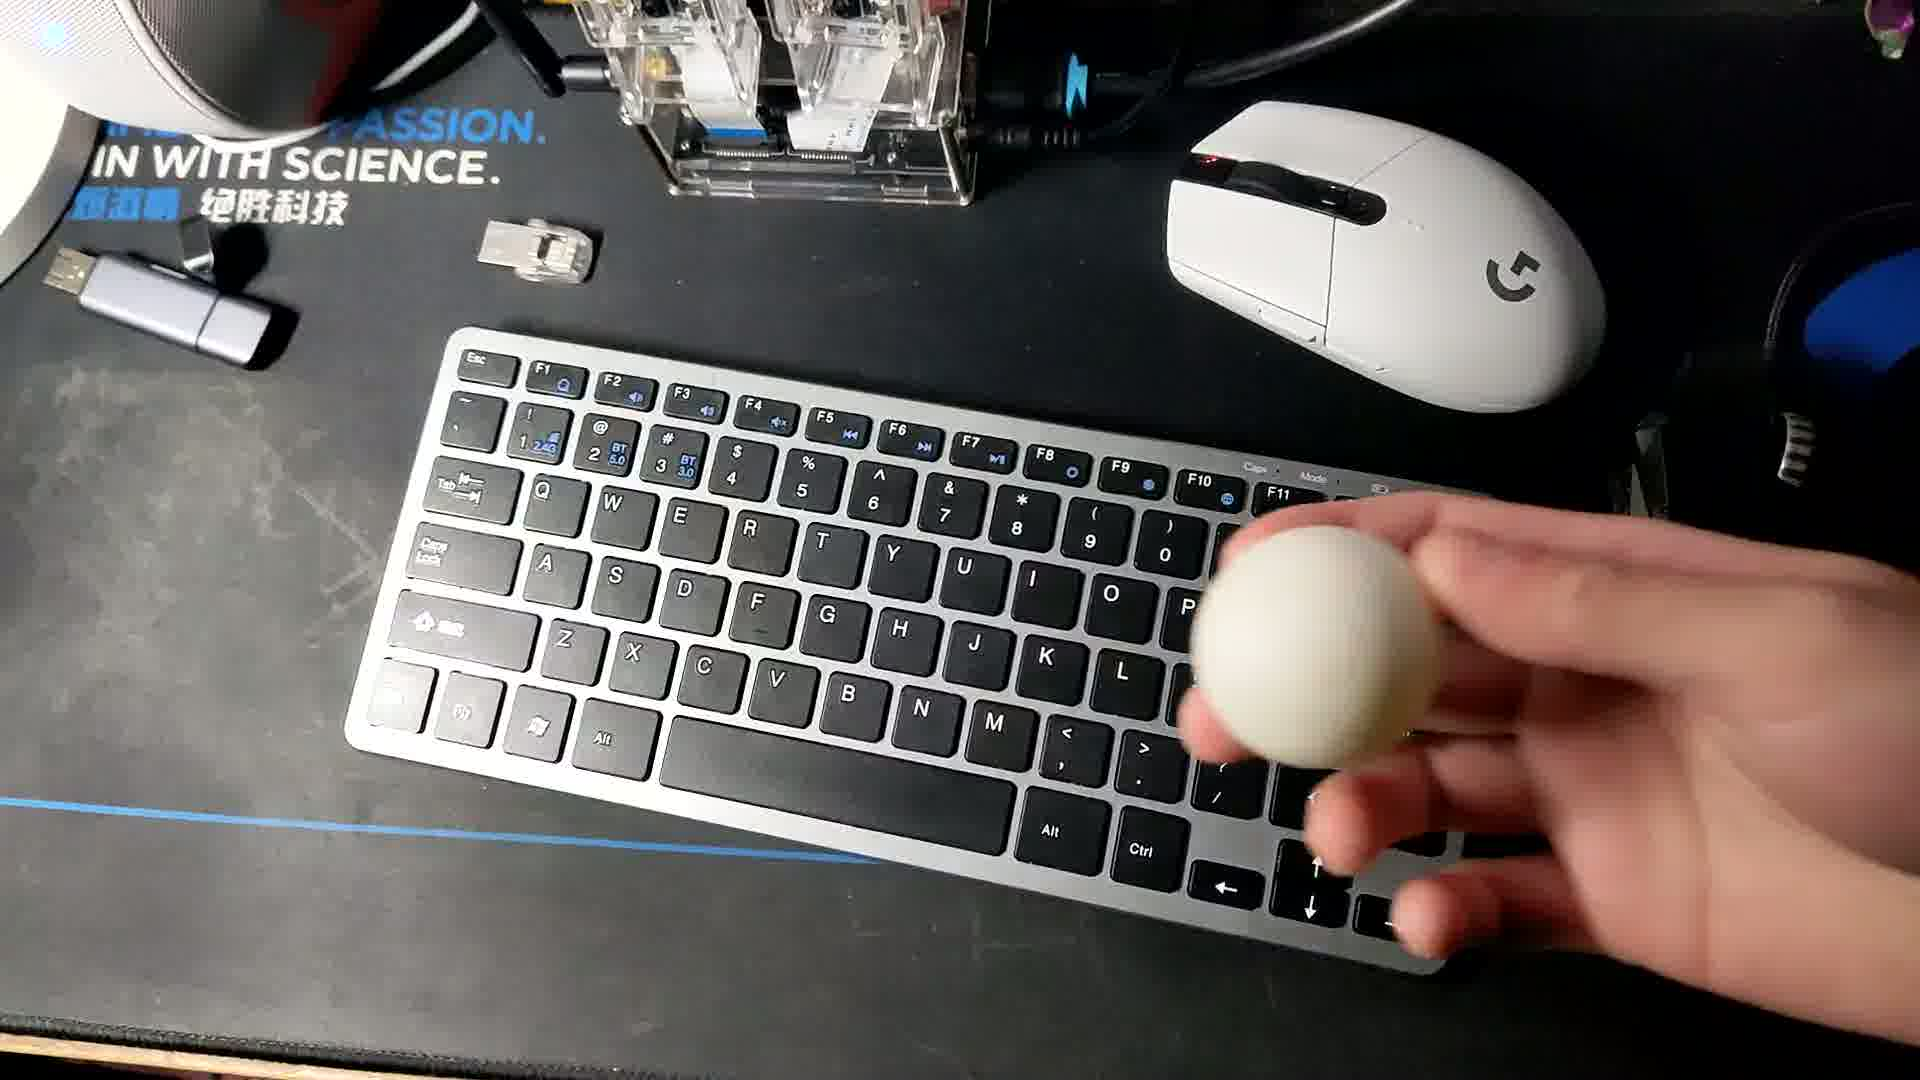Ball: (1185, 529, 1435, 770)
